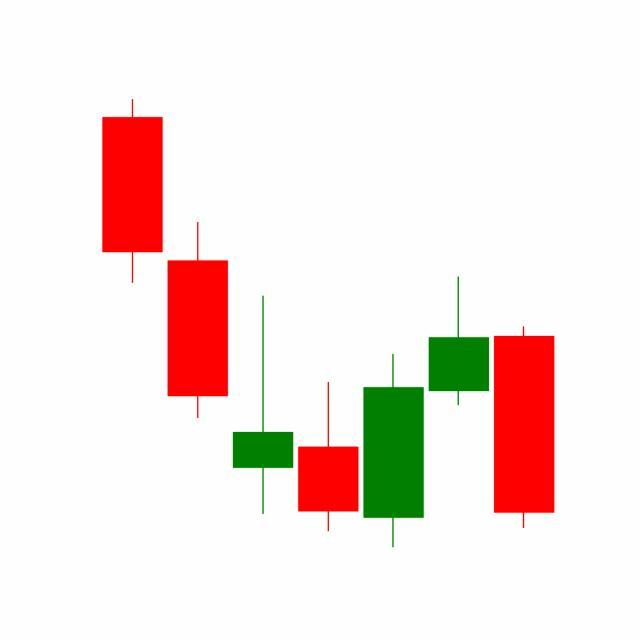Three Outside Up-Down: (295, 273, 492, 549)
